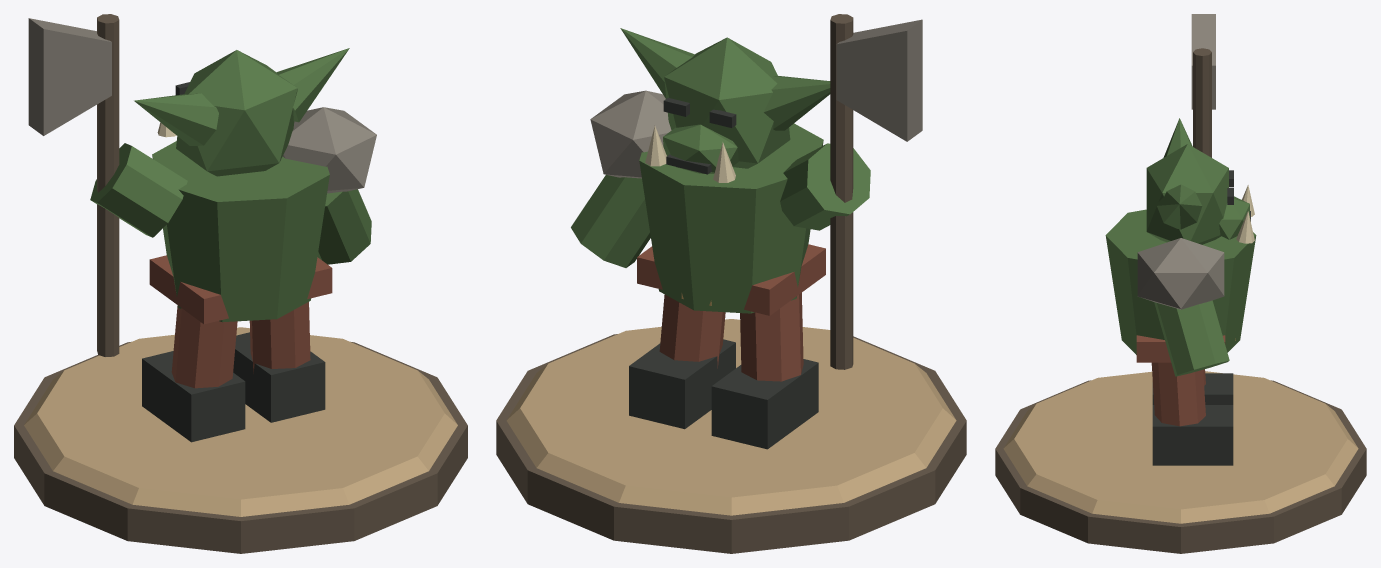
Rendered from WorldParty_Orcs.fbx.
3 renders of one model, left to right at view 1: azimuth 30°, elevation 25°; view 2: azimuth 150°, elevation 25°; view 3: azimuth 270°, elevation 25°, orthographic. The views are drawn at different scales.
Parts seen in each view (by area): view 1: WorldParty_Orcs; view 2: WorldParty_Orcs; view 3: WorldParty_Orcs.
Part boxes in pixels (x1,y1,x2,y2): WorldParty_Orcs: [14, 14, 467, 553]; WorldParty_Orcs: [496, 14, 966, 553]; WorldParty_Orcs: [995, 14, 1366, 553].
Bounding box in the file's own units: 1.38 × 1.58 × 1.38.
